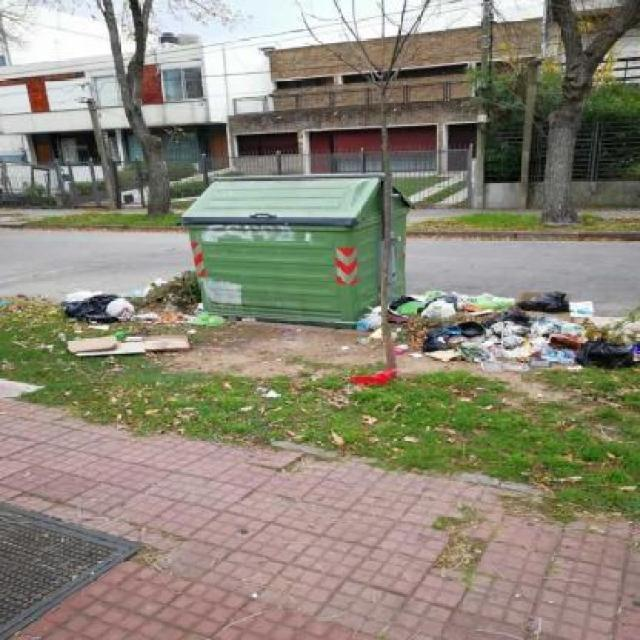garbage: (386, 288, 640, 390), (37, 279, 220, 392), (323, 360, 416, 419), (351, 299, 402, 346)
